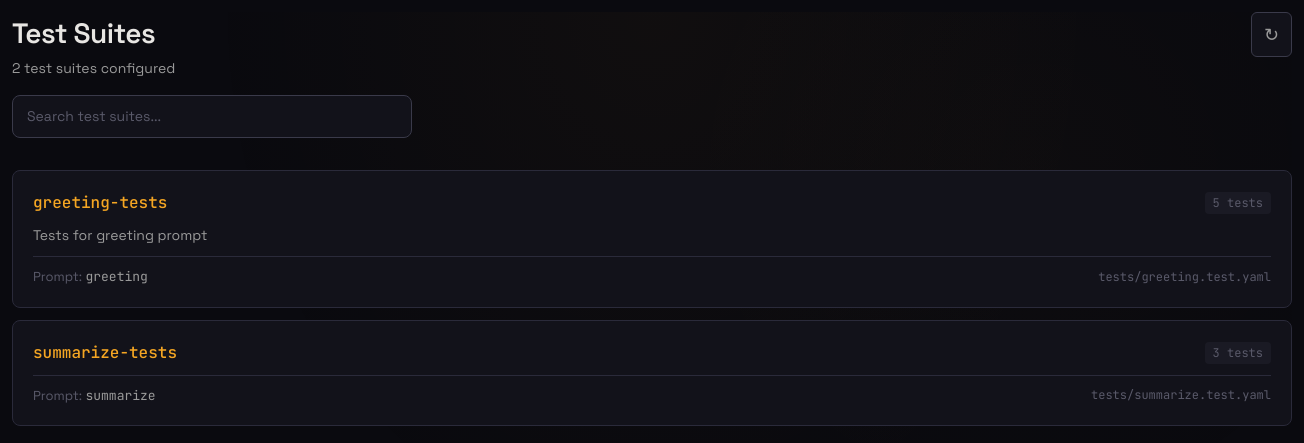
Test: TestsPage › filters suites by search
This screenshot has width=1304, height=443.
Expected: the text "greeting-tests" is shown, [33,191,167,215]
In the field with placeholder "Search test suites...": coordinates (212, 116) [12,95,412,138], type "greeting"
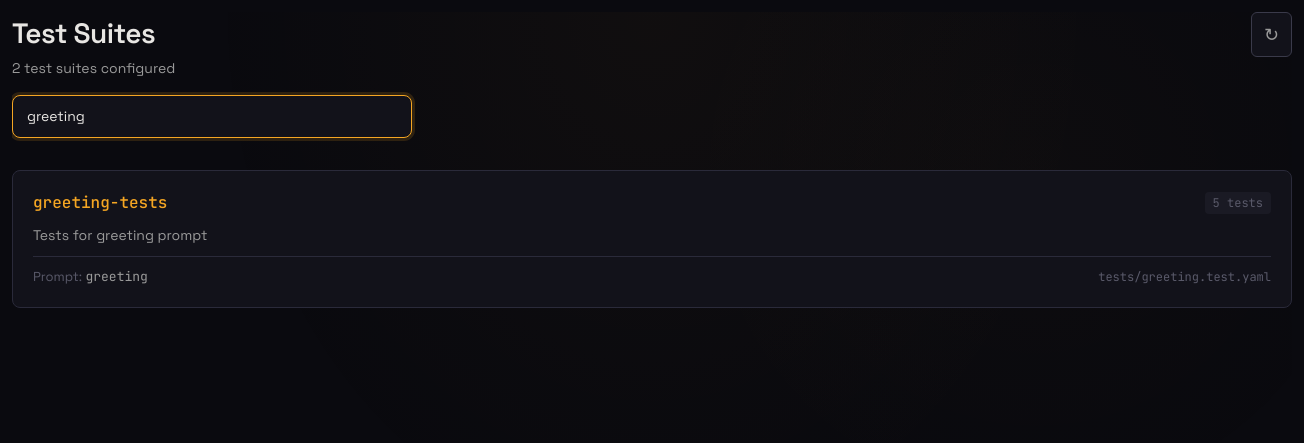
Expected: the text "greeting-tests" is shown, [33,191,167,215]
Now the link "summarize-tests" is gone
